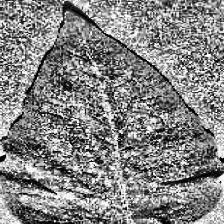Blossom Blight: (25, 166, 74, 205), (90, 73, 124, 118), (125, 169, 172, 201), (51, 135, 97, 164)
